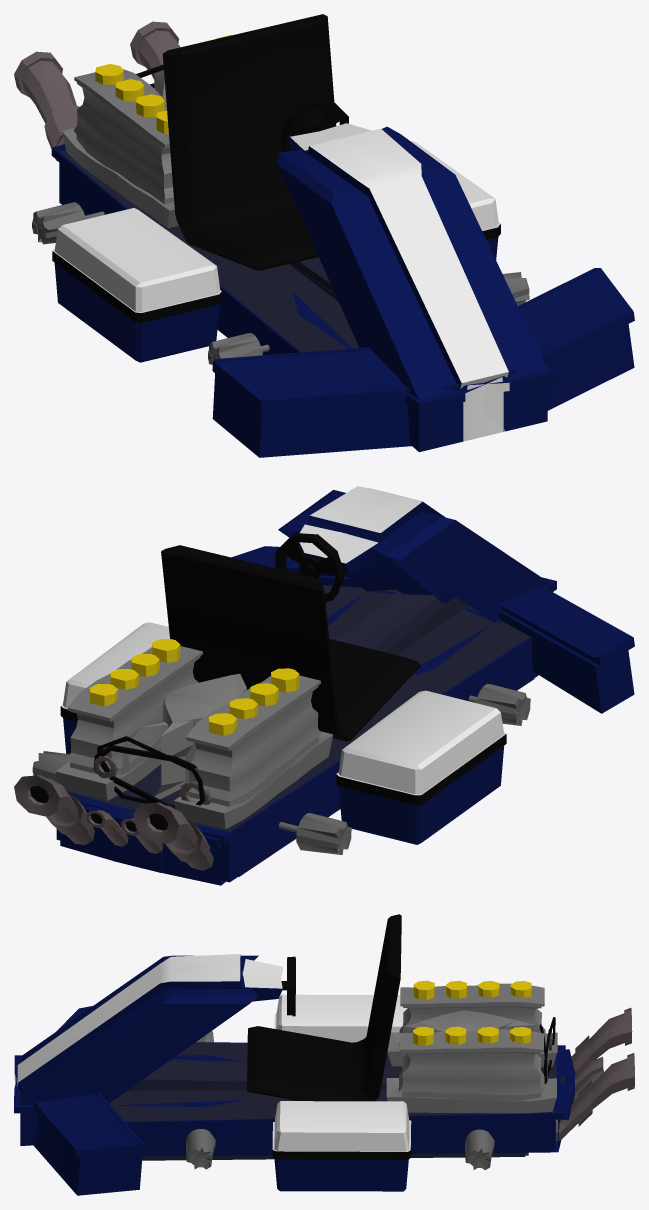
File: KartGabrielSemRoda.fbx
The picture shows the model from 3 angles, top to bottom: view 1: azimuth 30°, elevation 25°; view 2: azimuth 150°, elevation 25°; view 3: azimuth 270°, elevation 25°; orthographic projection. The views are drawn at different scales.
Parts seen in each view (by area): view 1: Cube, Banco, Cube.002, MotorR, Cylinder, Ligação Roda.001, Cilíndro R, Cube.001, Volante; view 2: Cube, Banco, MotorR, Cube.002, Cylinder, Gasolina, Cilíndro R, Ligação Roda.001, Cube.001, Volante, Cylinder.001, Correia.001 (+1 smaller); view 3: Cube, MotorR, Cube.001, Banco, Cube.002, Cylinder, Cilíndro R, Ligação Roda.001, Gasolina, Cylinder.001, Volante.
Part boxes in pixels (x1=…): Cube: x1=51, y1=123, x2=634, y2=457; Banco: x1=162, y1=14, x2=336, y2=270; Cube.002: x1=52, y1=208, x2=222, y2=362; MotorR: x1=62, y1=69, x2=178, y2=228; Cylinder: x1=14, y1=21, x2=180, y2=161; Ligação Roda.001: x1=32, y1=202, x2=529, y2=372; Cilíndro R: x1=95, y1=35, x2=231, y2=133; Cube.001: x1=411, y1=141, x2=500, y2=259; Volante: x1=279, y1=98, x2=348, y2=151; Cube: x1=56, y1=486, x2=634, y2=885; Banco: x1=161, y1=545, x2=420, y2=741; MotorR: x1=55, y1=646, x2=333, y2=829; Cube.002: x1=336, y1=690, x2=506, y2=844; Cylinder: x1=14, y1=775, x2=213, y2=870; Gasolina: x1=120, y1=673, x2=246, y2=799; Cilíndro R: x1=89, y1=639, x2=299, y2=735; Ligação Roda.001: x1=32, y1=684, x2=530, y2=855; Cube.001: x1=60, y1=622, x2=169, y2=753; Volante: x1=275, y1=533, x2=344, y2=602; Cylinder.001: x1=86, y1=810, x2=163, y2=853; Correia.001: x1=97, y1=736, x2=204, y2=808; Cube: x1=14, y1=954, x2=575, y2=1195; MotorR: x1=386, y1=983, x2=557, y2=1113; Cube.001: x1=272, y1=1101, x2=411, y2=1191; Banco: x1=247, y1=914, x2=401, y2=1101; Cube.002: x1=274, y1=994, x2=407, y2=1042; Cylinder: x1=555, y1=1008, x2=634, y2=1141; Cilíndro R: x1=412, y1=980, x2=531, y2=1045; Ligação Roda.001: x1=186, y1=1031, x2=494, y2=1170; Gasolina: x1=403, y1=1010, x2=534, y2=1057; Cylinder.001: x1=573, y1=1057, x2=603, y2=1102; Volante: x1=281, y1=956, x2=295, y2=1016.
Size of the model in its own units: 604 by 353 by 1066.
